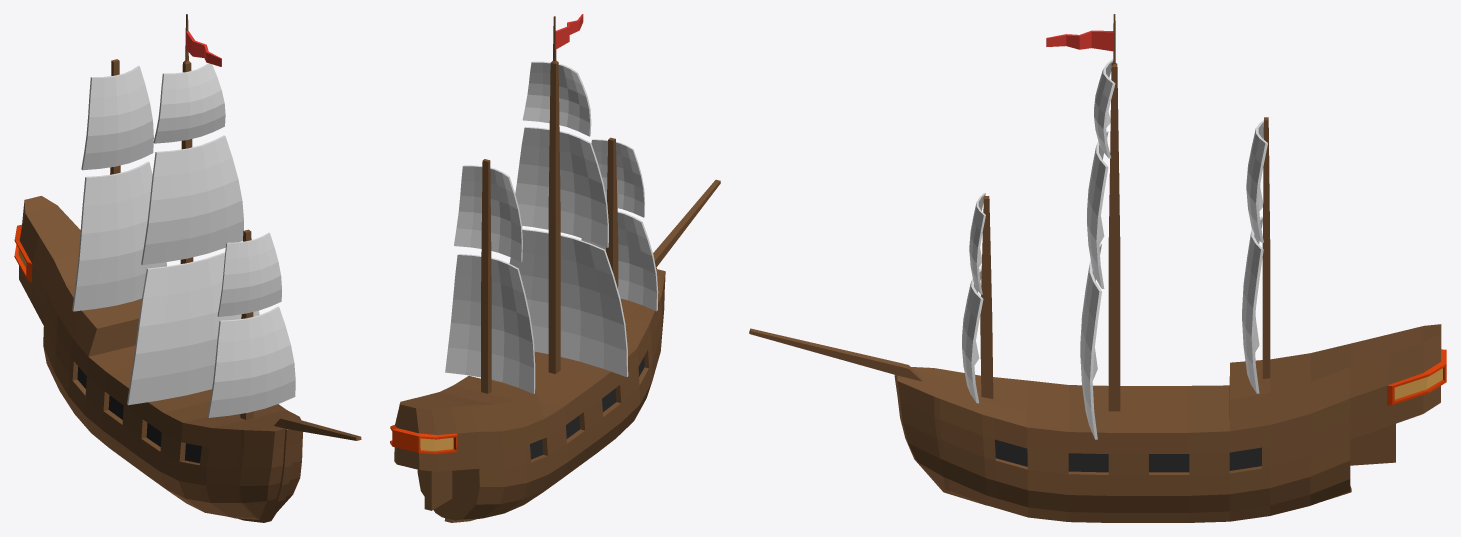
The model's file is pirate_ship.fbx.
The picture shows the model from 3 angles, left to right: view 1: azimuth 30°, elevation 25°; view 2: azimuth 150°, elevation 25°; view 3: azimuth 270°, elevation 25°; orthographic projection. The views are drawn at different scales.
Parts seen in each view (by area): view 1: Cube.001; view 2: Cube.001; view 3: Cube.001.
Boxes of the visible parts, <box> form: Cube.001: <box>14,14,361,522</box>; Cube.001: <box>390,14,720,522</box>; Cube.001: <box>749,14,1446,522</box>.
Bounding box in the file's own units: 829 × 2761 × 3461.
